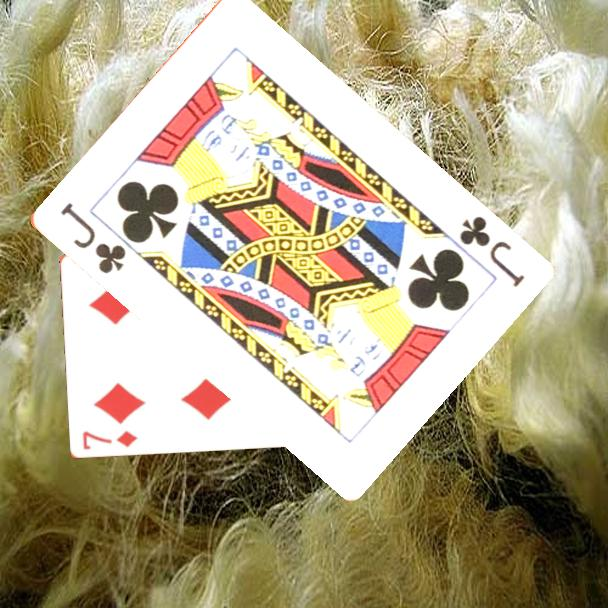c11: (56, 198, 129, 277), (455, 212, 527, 291)
d07: (80, 427, 141, 452)
